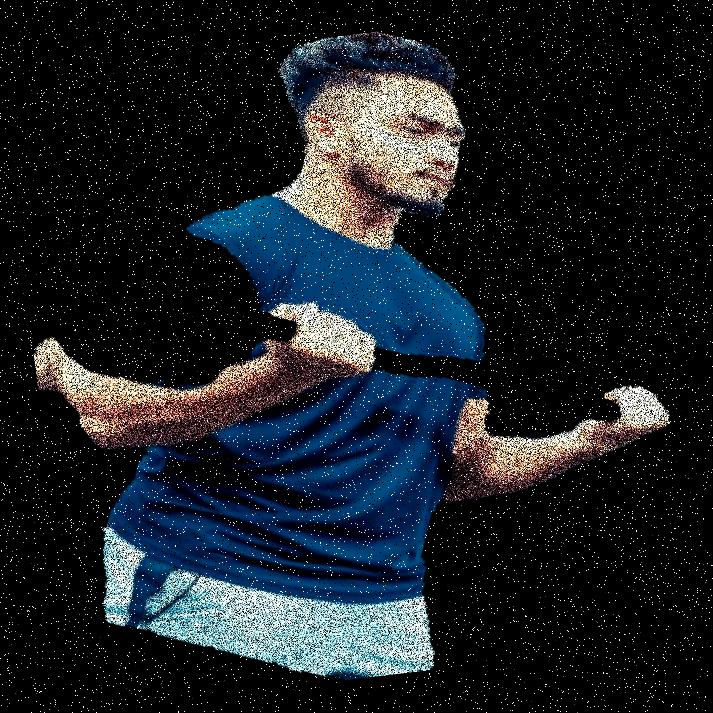Pessoa: (217, 0, 465, 712)
